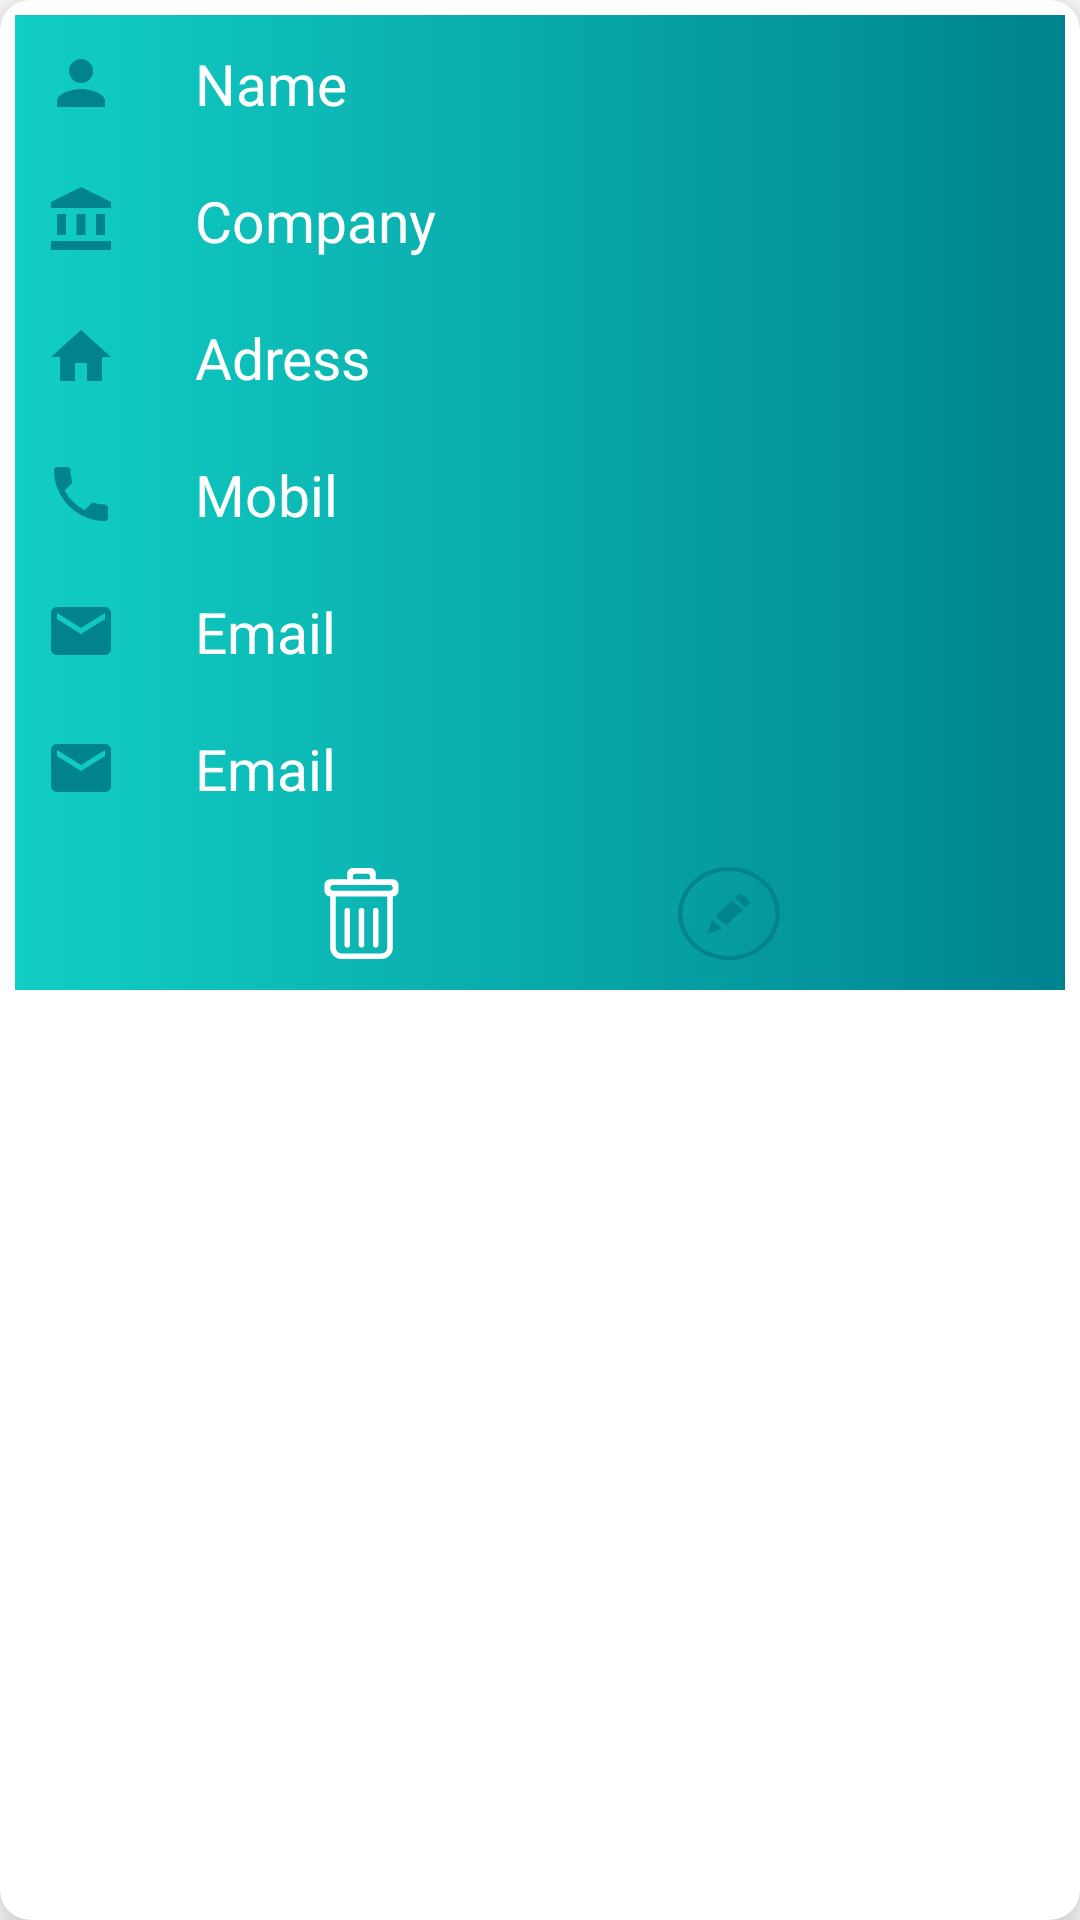

Named icons in this screenshot (1080 × 1920) and their centers, point (x, y):
deletesvg: point (361, 913)
edit round line: point (729, 913)
